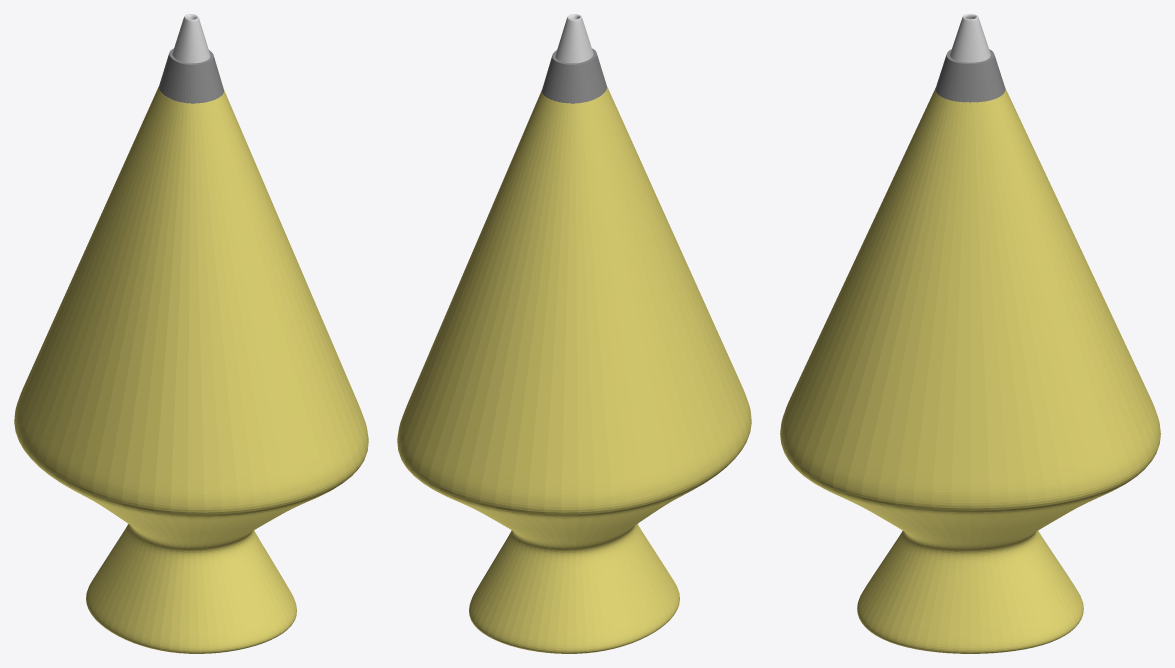
Rendered from assets crema pastelera.fbx.
3 views of the same model, side by side, from view 1: azimuth 30°, elevation 25°; view 2: azimuth 150°, elevation 25°; view 3: azimuth 270°, elevation 25° (orthographic).
Visible parts, largest first — view 1: Cube.002; view 2: Cube.002; view 3: Cube.002.
Boxes of the visible parts, left/top/right/bottom form: Cube.002: left=14, top=14, right=368, bottom=653; Cube.002: left=397, top=14, right=751, bottom=653; Cube.002: left=780, top=14, right=1160, bottom=653.
Size of the model in its own units: 44.2 by 85.69 by 49.48.
